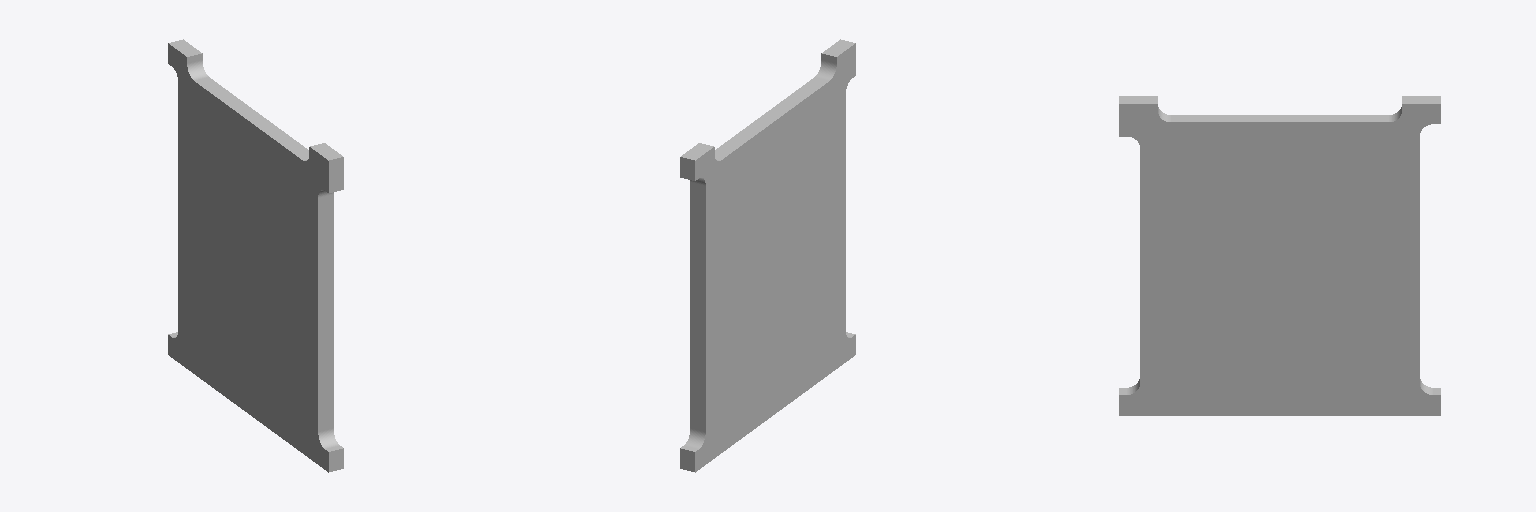
Rendered from Optical_shell_locked.obj.
The picture shows the model from 3 angles: view 1: azimuth 30°, elevation 25°; view 2: azimuth 150°, elevation 25°; view 3: azimuth 270°, elevation 25°; orthographic projection.
Parts seen in each view (by area): view 1: shell_locked; view 2: shell_locked; view 3: shell_locked.
Boxes of the visible parts, <box> form: shell_locked: <box>168,39,343,472</box>; shell_locked: <box>680,39,855,472</box>; shell_locked: <box>1119,96,1440,415</box>.
Bounding box in the file's own units: 0.0024 × 0.0465 × 0.0434.